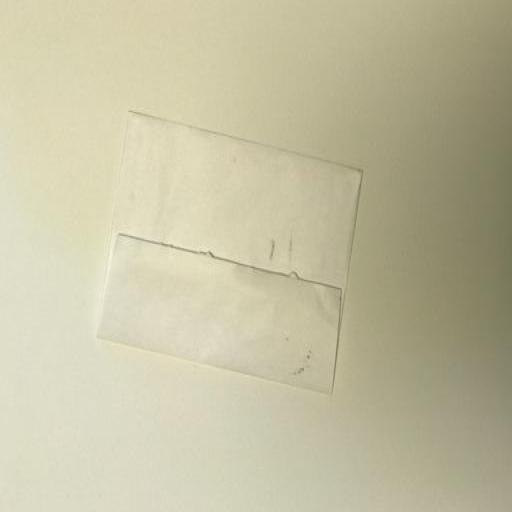paper: (95, 106, 360, 388)
